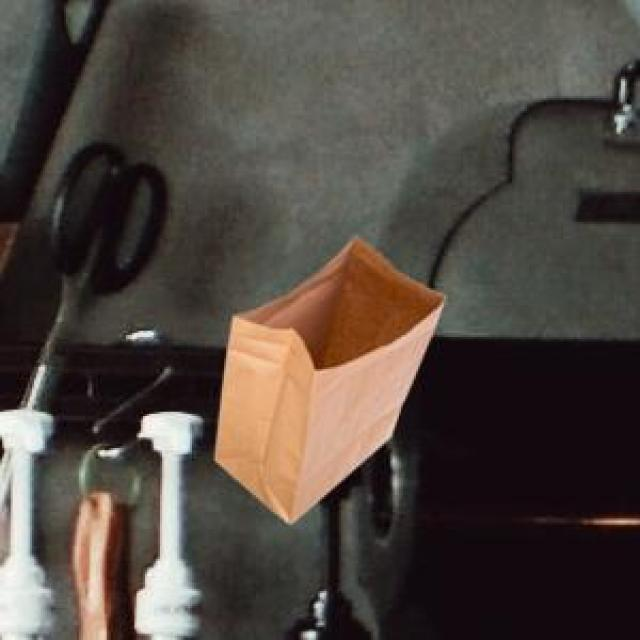paper: (211, 233, 442, 518)
